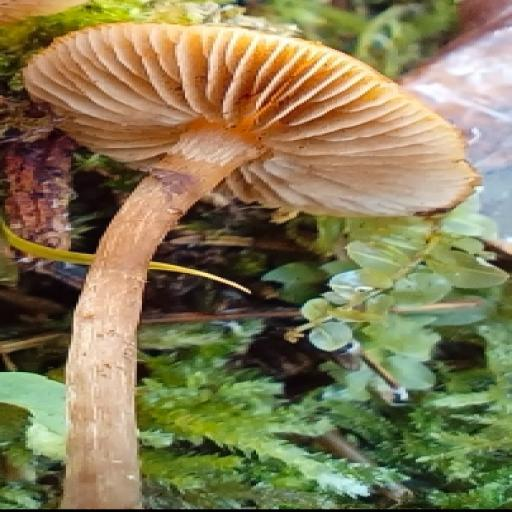mushroom: (18, 13, 489, 365)
